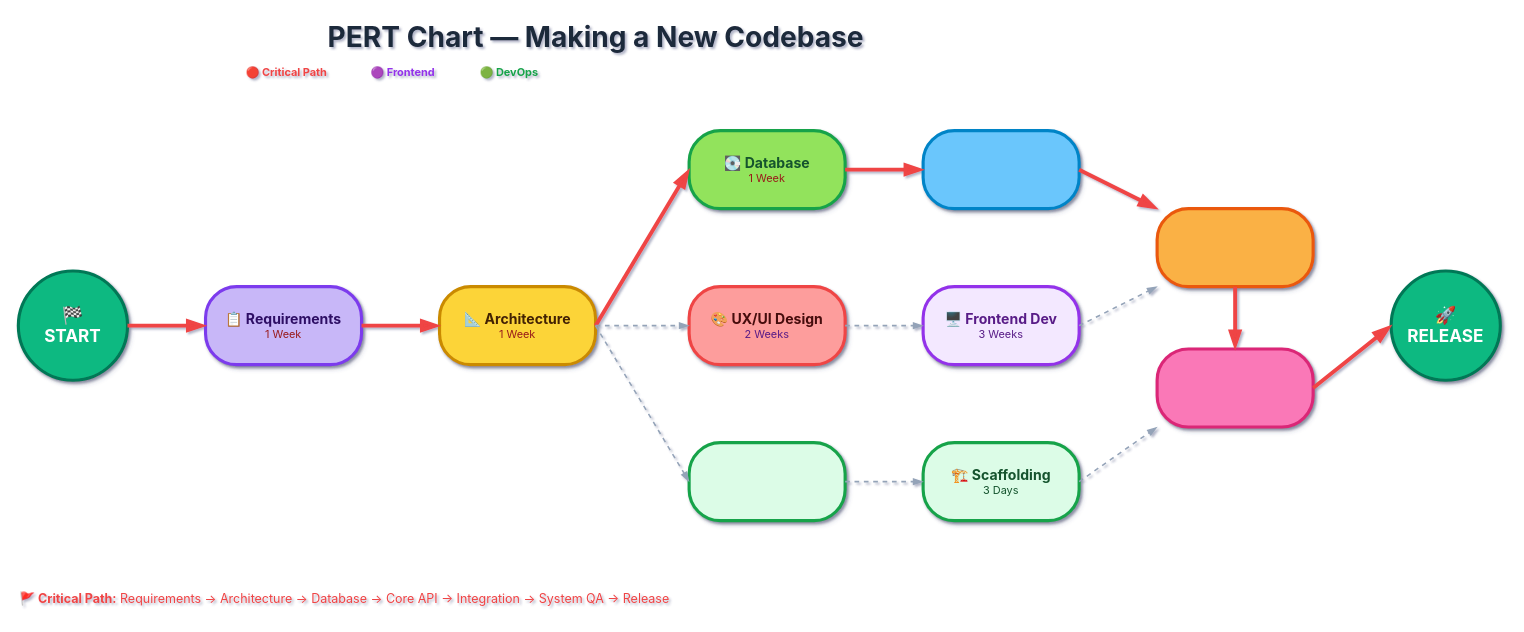
Some shapes in this 1524 by 632 pixel diagram are drawn without their labels. The shapes that lost their labels are listed below. From the top down, each one's centre as x and y in pixels, then its label:
the point at 1001,170: ⚙️ Core API 2 Weeks
the point at 1235,248: 🧩 Integration 1.5 Weeks
the point at 1235,389: 🛡️ System QA 2 Weeks
the point at 767,482: 🐙 Git & Repo 1 Day
